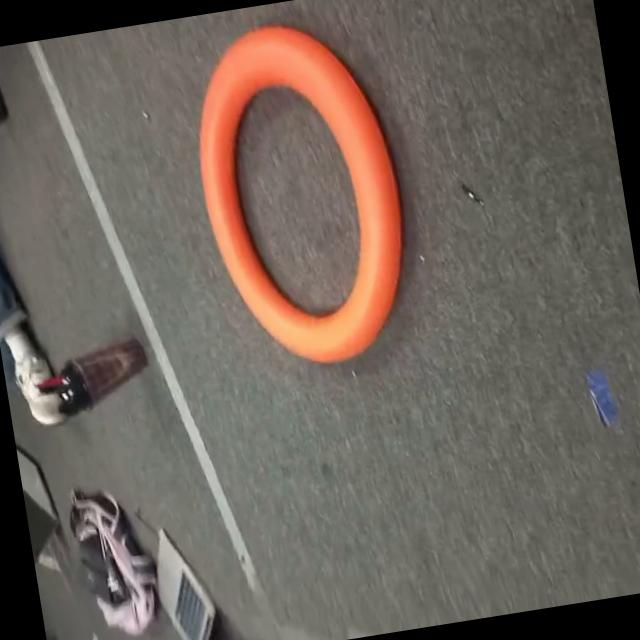note: (175, 1, 438, 398)
